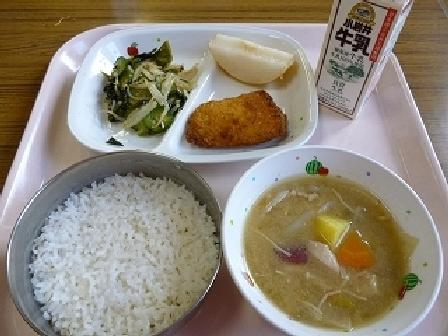Milk: (308, 0, 418, 116)
Rice: (17, 155, 236, 333)
Salad: (89, 36, 197, 130)
Soups: (238, 150, 432, 322)
cutlet: (184, 84, 291, 160)
pear: (204, 16, 298, 89)
